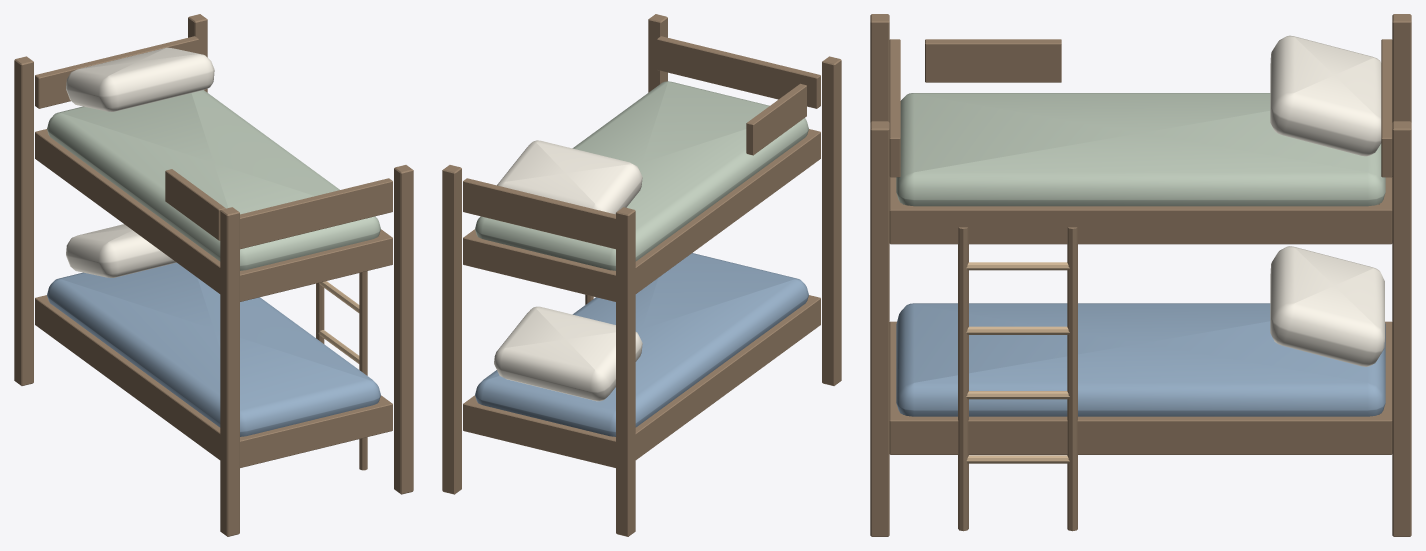
The model's file is bunk-bed-twin-1f611645.glb.
The picture shows the model from 3 angles, left to right: view 1: azimuth 30°, elevation 25°; view 2: azimuth 150°, elevation 25°; view 3: azimuth 270°, elevation 25°; orthographic projection. The views are drawn at different scales.
Parts seen in each view (by area): view 1: bunk-bed-twin; view 2: bunk-bed-twin; view 3: bunk-bed-twin.
Part boxes in pixels (left/top/right/bottom): bunk-bed-twin: left=14, top=14, right=413, bottom=536; bunk-bed-twin: left=442, top=14, right=841, bottom=536; bunk-bed-twin: left=870, top=14, right=1411, bottom=536.
Size of the model in its own units: 1 by 1.67 by 1.98.
